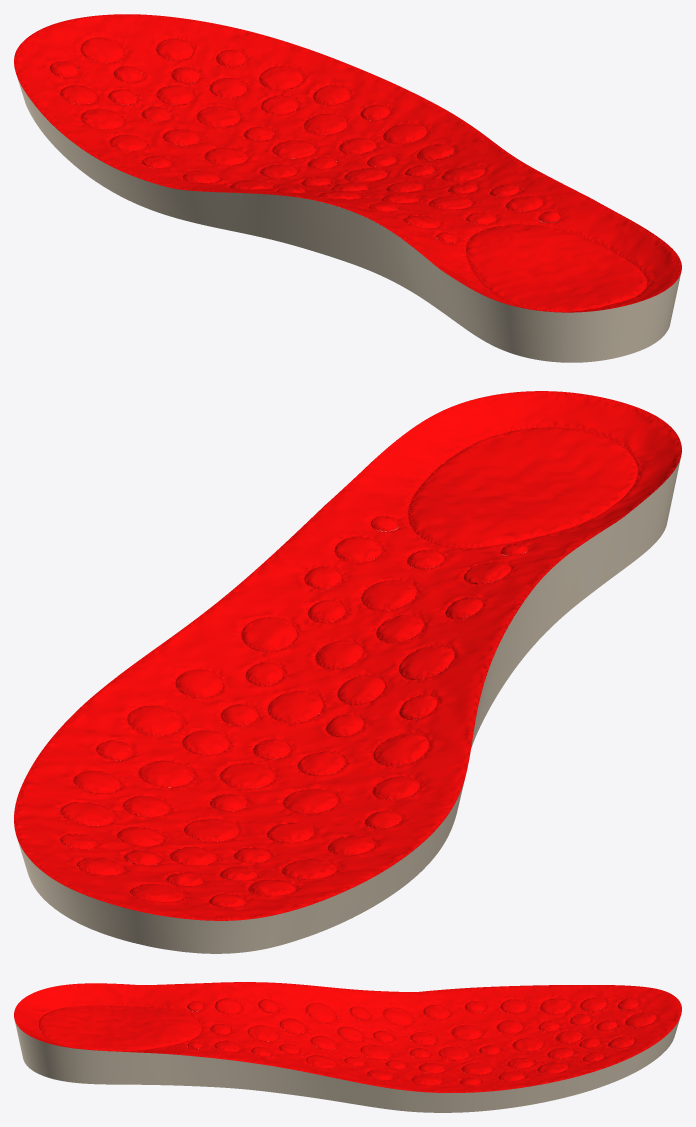
The picture shows the model from 3 angles, top to bottom: view 1: azimuth 30°, elevation 25°; view 2: azimuth 150°, elevation 25°; view 3: azimuth 270°, elevation 25°; orthographic projection. The views are drawn at different scales.
Parts seen in each view (by area): view 1: GI019_Palm_nº35__100_; view 2: GI019_Palm_nº35__100_; view 3: GI019_Palm_nº35__100_.
Boxes of the visible parts, <box> form: GI019_Palm_nº35__100_: <box>14,14,681,362</box>; GI019_Palm_nº35__100_: <box>14,391,681,953</box>; GI019_Palm_nº35__100_: <box>14,982,681,1112</box>.
Size of the model in its own units: 94.38 by 26.15 by 246.
